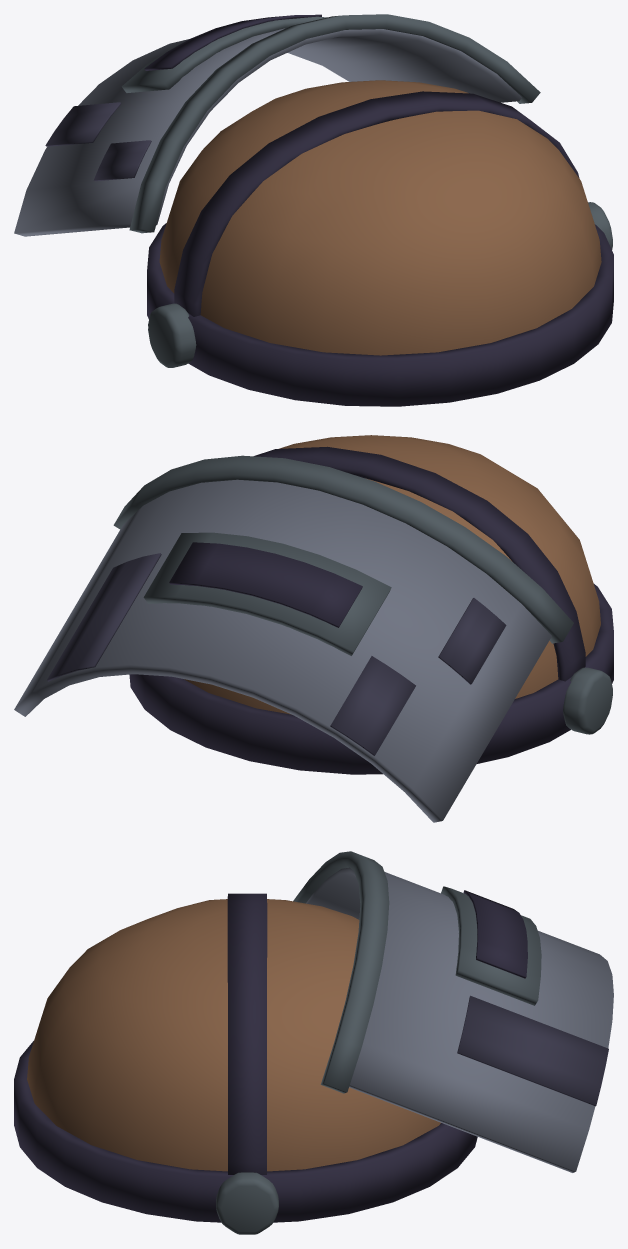
The model's file is hat_welding_mask.glb.
3 views of the same model, one above another, from view 1: azimuth 30°, elevation 25°; view 2: azimuth 150°, elevation 25°; view 3: azimuth 270°, elevation 25° (orthographic). The views are drawn at different scales.
Parts seen in each view (by area): view 1: Hat; view 2: Hat; view 3: Hat.
Boxes of the visible parts, <box> form: Hat: <box>14,14,613,406</box>; Hat: <box>14,435,613,822</box>; Hat: <box>14,851,613,1234</box>.
Size of the model in its own units: 0.698 by 0.3804 by 0.8301.
